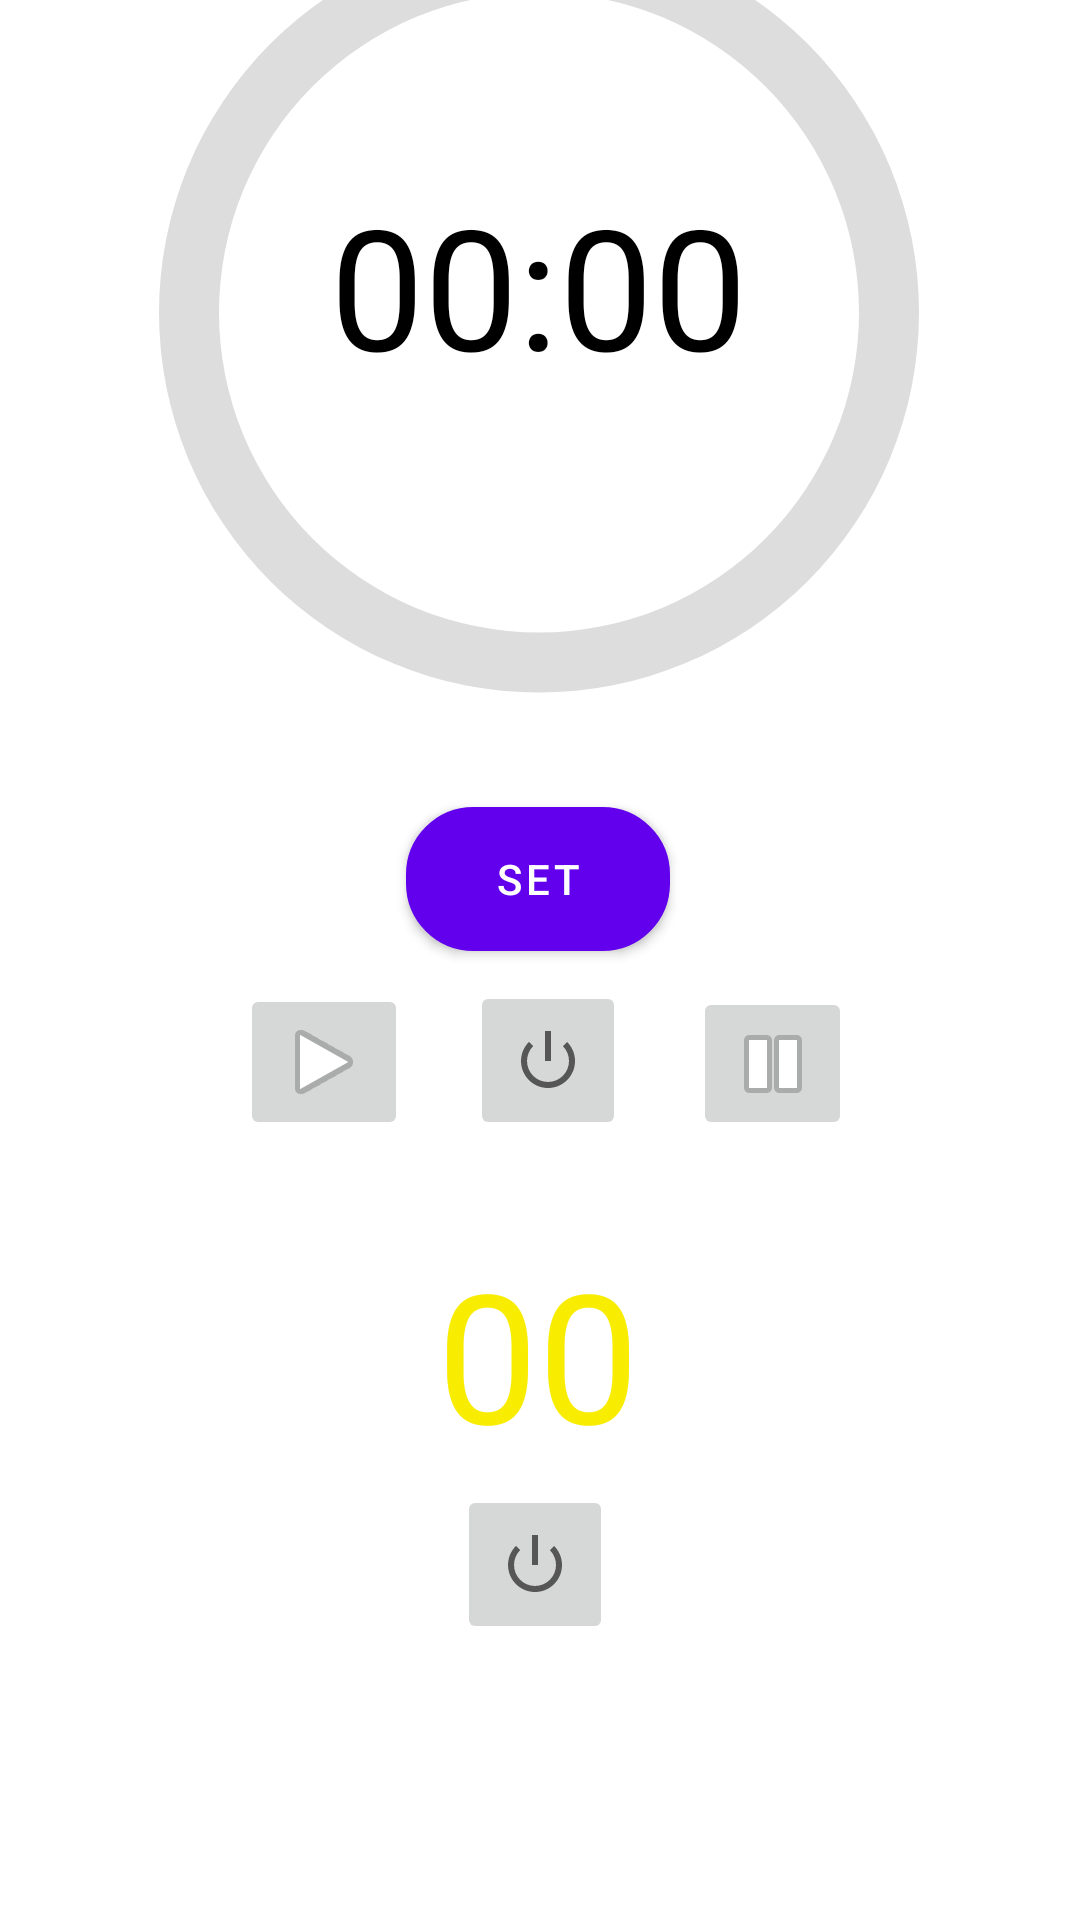

Where to tap for icons on this 1080*1920 app screen, as [x,y]:
lock power off: [548,1060], [535,1564]
pause: [772,1063]
play: [324,1062]
